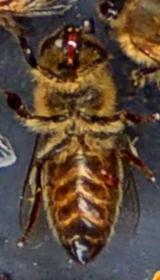varroa_mite: (94, 163, 120, 189)
